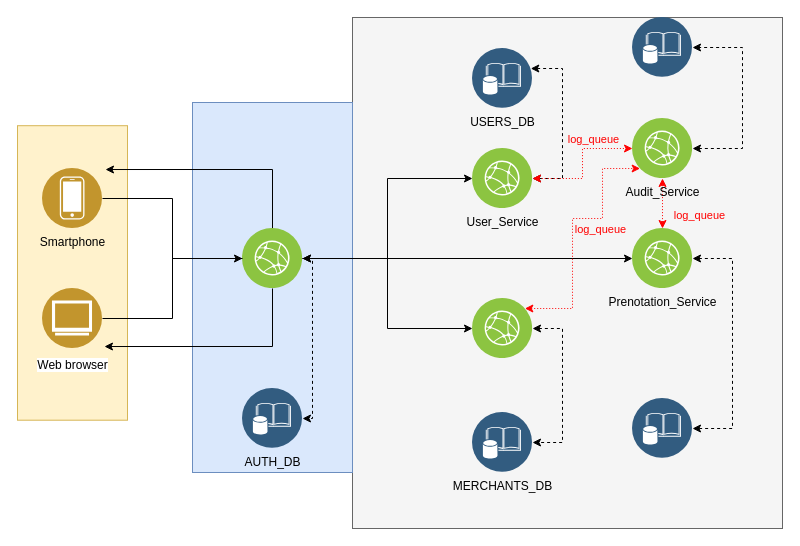
Image size: 800x546. Some labels were removed from this diagram. Here are the shapes that lost their labels. From the top down, the centre of each, then its label:
At (662,47): "AUDITS_DB".
At (272,258): "Auth_Service".
At (502,328): "Merchant_Service".
At (662,428): "PRENOTATIONS_DB".
